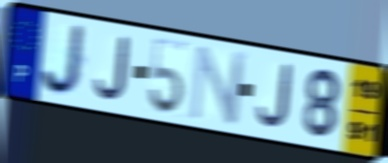5: (147, 34, 195, 117)
8: (302, 67, 341, 141)
J: (39, 22, 88, 98), (255, 62, 294, 131), (92, 34, 130, 103)
N: (188, 43, 250, 126)
